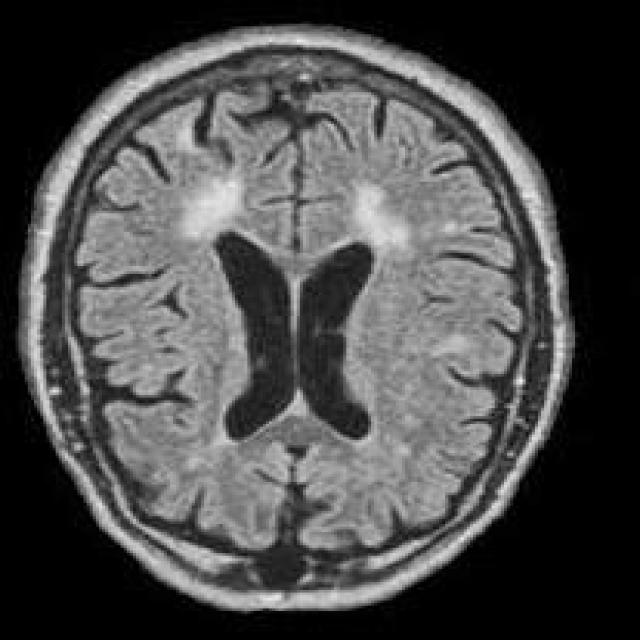no-tumor: (137, 146, 445, 466)
